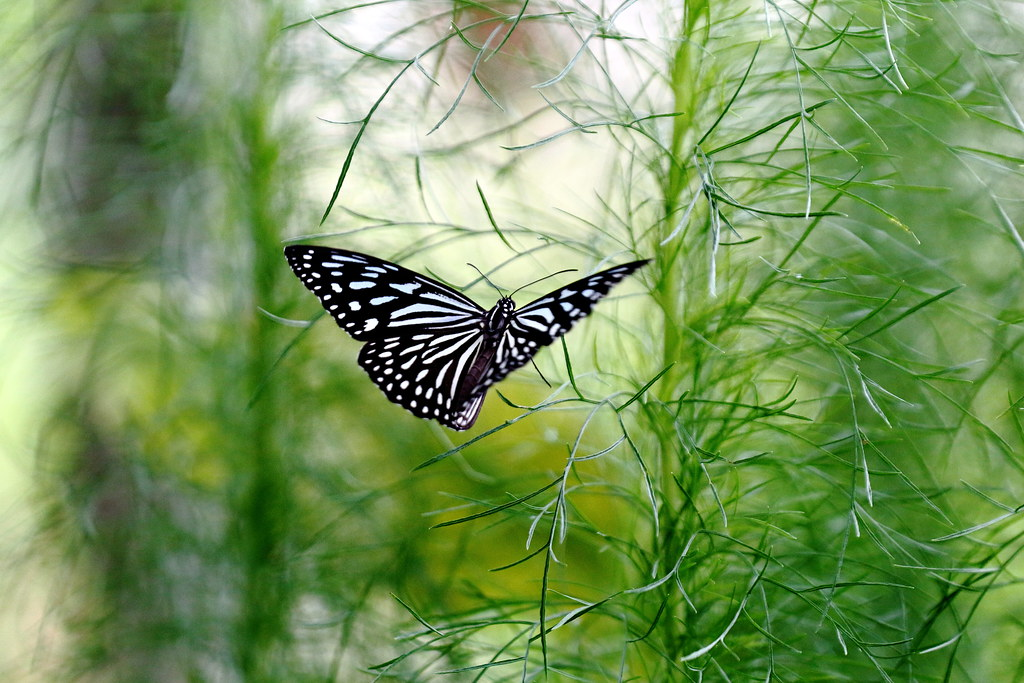insect: (279, 241, 648, 429)
